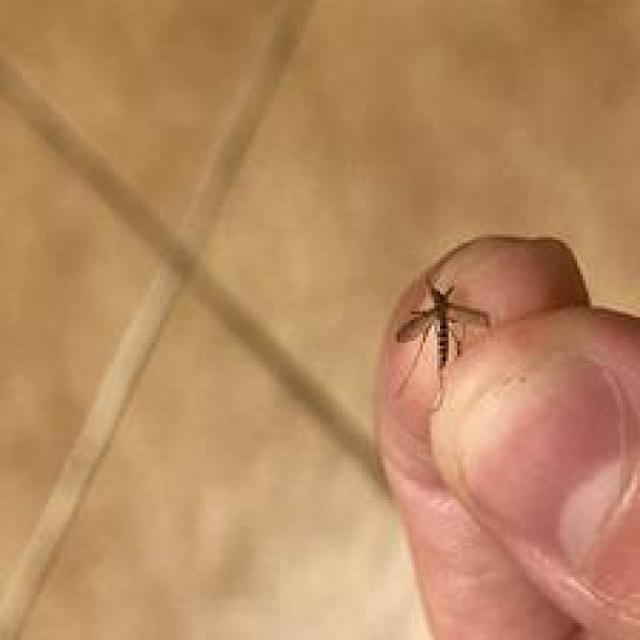Culex: (392, 273, 492, 410)
